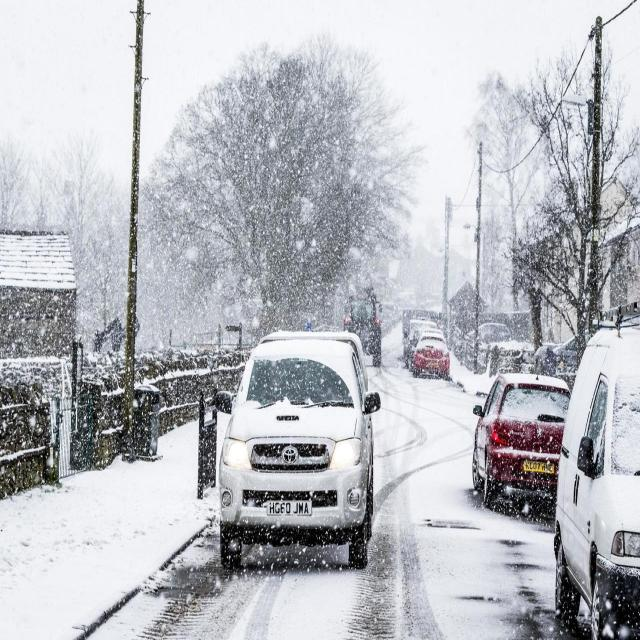bus: (341, 281, 383, 364)
car: (222, 332, 374, 570), (553, 315, 639, 639), (471, 369, 568, 518), (549, 322, 590, 369), (412, 333, 452, 380), (468, 322, 512, 346)
